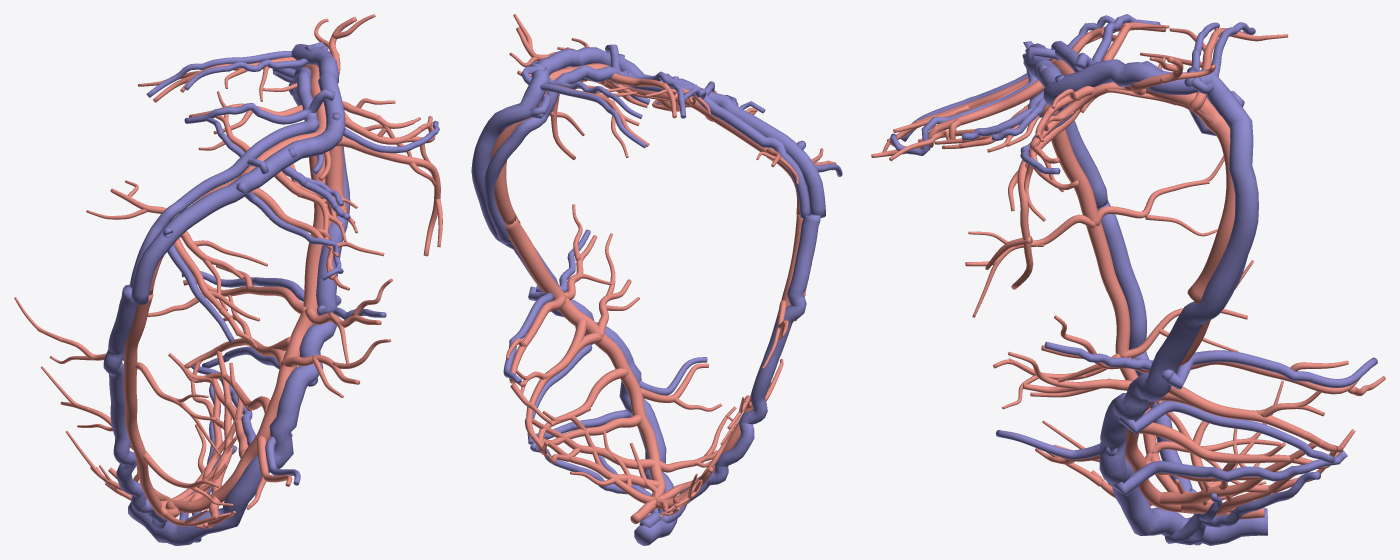
File: vessels_20.glb
3 renders of one model, left to right at view 1: azimuth 30°, elevation 25°; view 2: azimuth 150°, elevation 25°; view 3: azimuth 270°, elevation 25°, orthographic. The views are drawn at different scales.
Visible parts, largest first — view 1: Renderer Node; view 2: Renderer Node; view 3: Renderer Node.
Part boxes in pixels (box(x1,y1,x2,y2)): Renderer Node: box(14, 14, 442, 545); Renderer Node: box(471, 14, 842, 545); Renderer Node: box(871, 14, 1385, 545).
Bounding box in the file's own units: 84.03 × 113 × 88.89.
